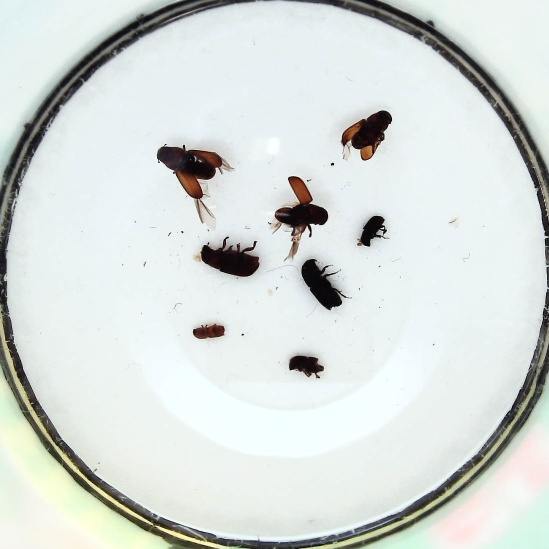acuminatus: (190, 323, 226, 340)
armandi: (359, 213, 387, 247)
boerner: (301, 257, 344, 310)
leconte: (156, 141, 223, 199), (273, 175, 329, 230), (338, 108, 393, 160), (200, 238, 261, 276)
linnaeus: (285, 352, 325, 380)
